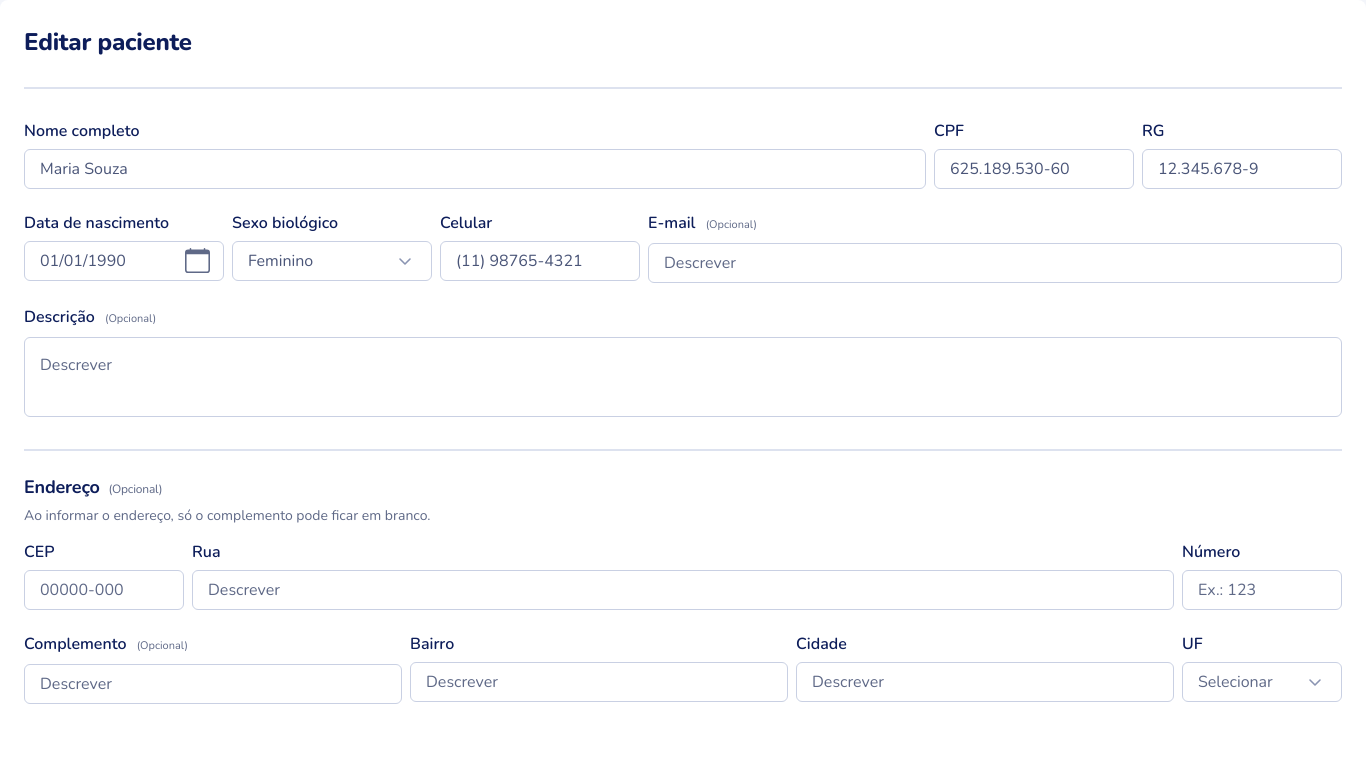
PatientForm address › drops a pending lookup when the CEP becomes incomplete
Type "01310100" into the field labelled "CEP". click: (104, 590)
box: left=24, top=570, right=184, bottom=610
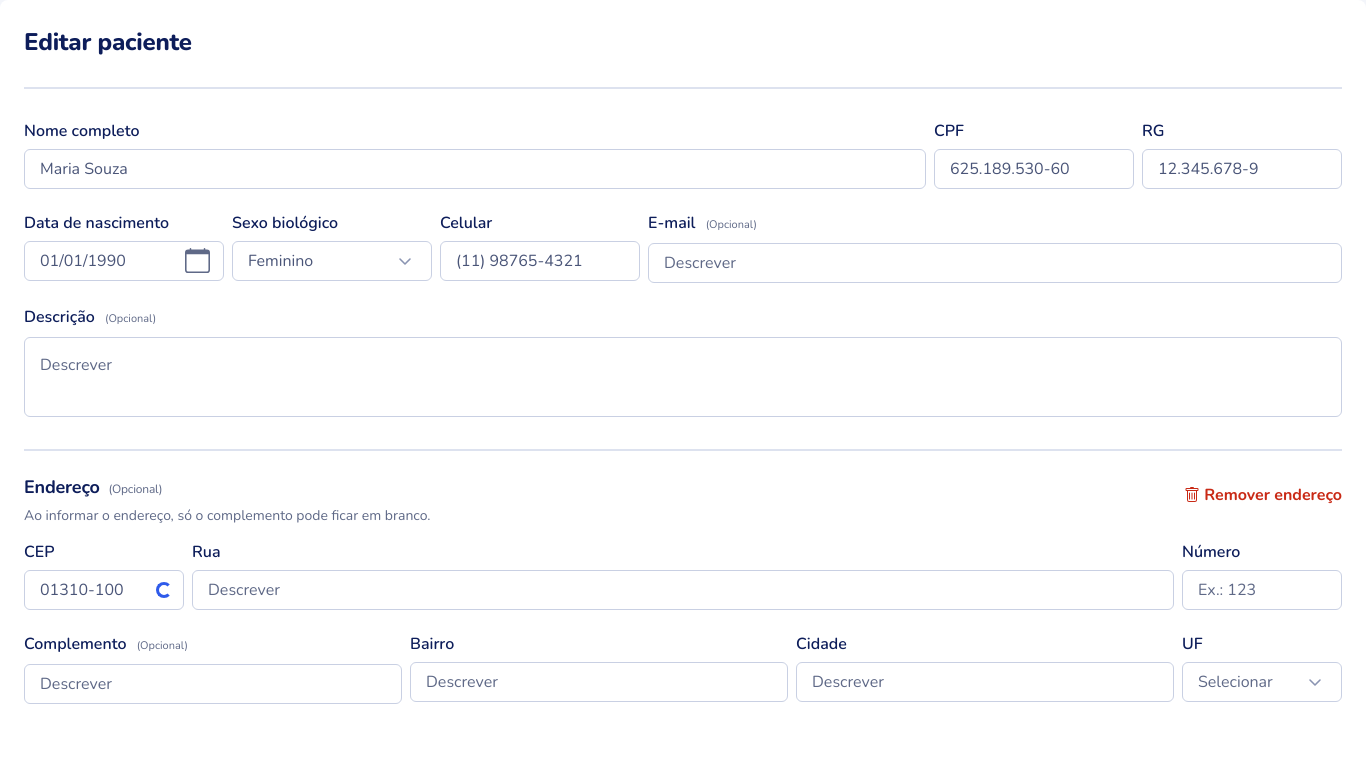
Replace the text in the field labelled "CEP" with "0131010". click: (104, 590)
box: left=24, top=570, right=184, bottom=610
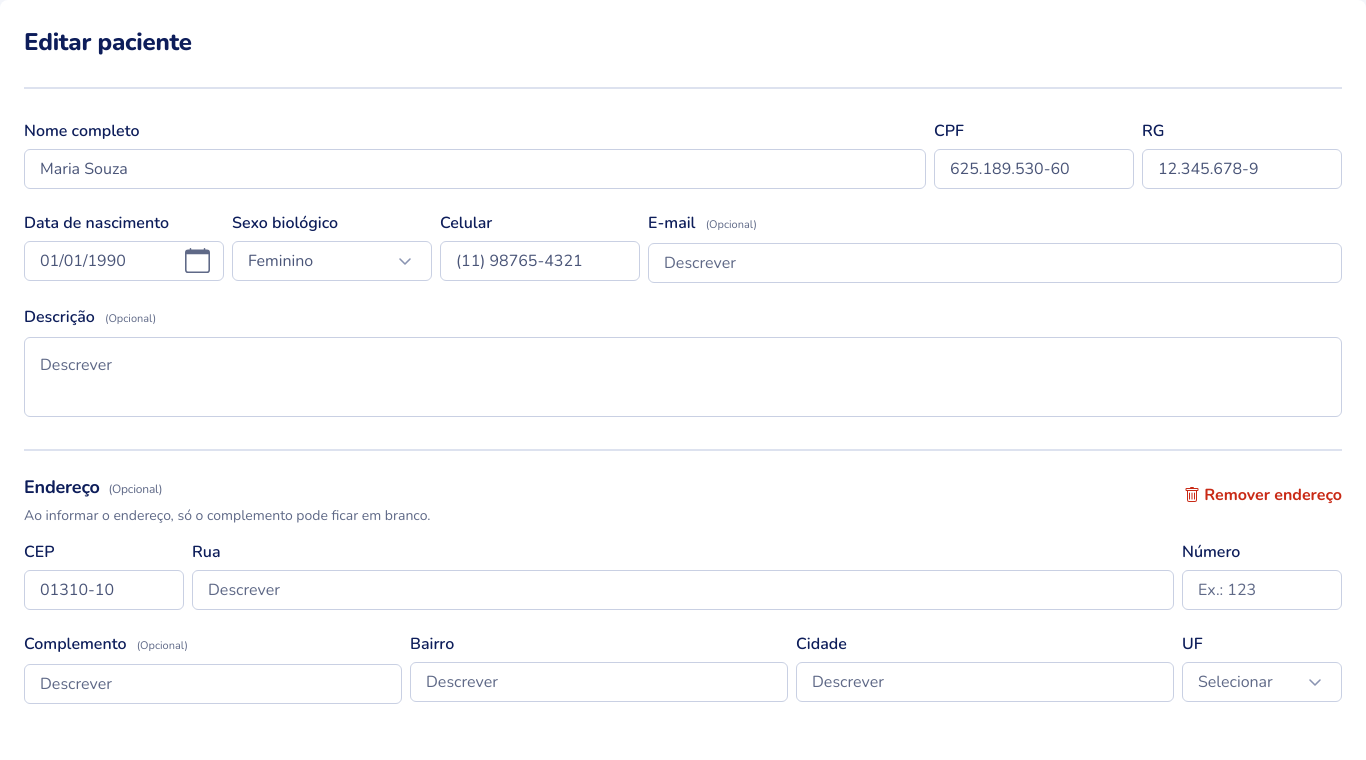
Expected: the field labelled "Rua" is empty, left=192, top=570, right=1174, bottom=610
Expected: the element with class "cep-input__spinner" is gone
